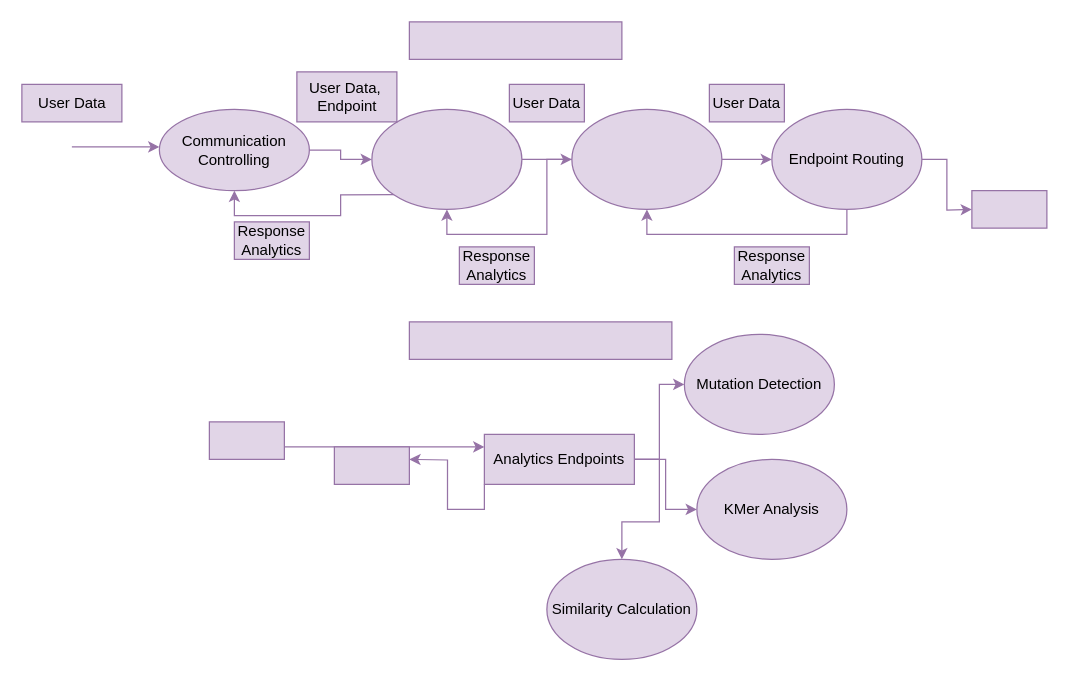
Some shapes in this 1069 by 681 pixel diagram are drawn without their labels. The centre of each missing label's shape, as x and y in pixels:
Analysis Endpoints: point (1009, 208)
Analytics Output: point (371, 465)
HTTP Web Server Relay: point (646, 158)
Level 0- Communication: point (515, 40)
Level 0-Analytics: point (540, 340)
Request Routing: point (446, 158)
User Data Input: point (246, 440)
